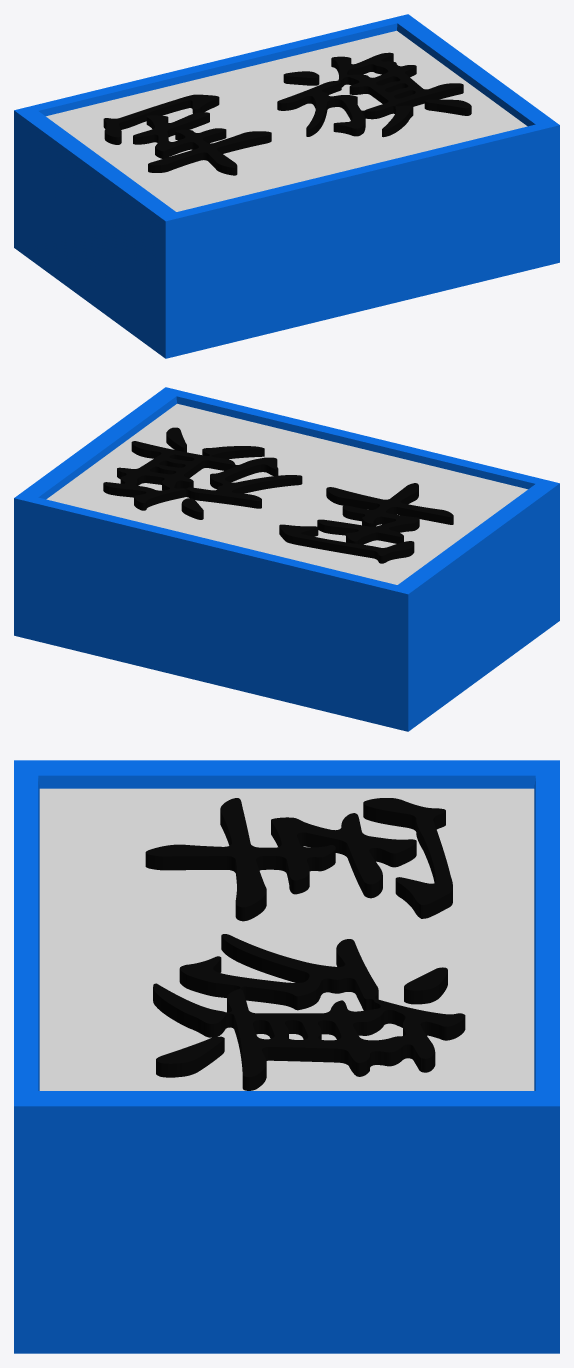
The model's file is iii_jun_qi.fbx.
The picture shows the model from 3 angles, top to bottom: view 1: azimuth 30°, elevation 25°; view 2: azimuth 150°, elevation 25°; view 3: azimuth 270°, elevation 25°; orthographic projection. The views are drawn at different scales.
Parts seen in each view (by area): view 1: Cube, 文本; view 2: Cube, 文本; view 3: Cube, 文本.
Part boxes in pixels (x1=…): Cube: x1=14, y1=14, x2=559, y2=358; 文本: x1=103, y1=52, x2=471, y2=175; Cube: x1=14, y1=387, x2=559, y2=731; 文本: x1=103, y1=427, x2=453, y2=563; Cube: x1=14, y1=760, x2=559, y2=1353; 文本: x1=145, y1=798, x2=465, y2=1090.
Size of the model in its own units: 240 by 80.47 by 160.
